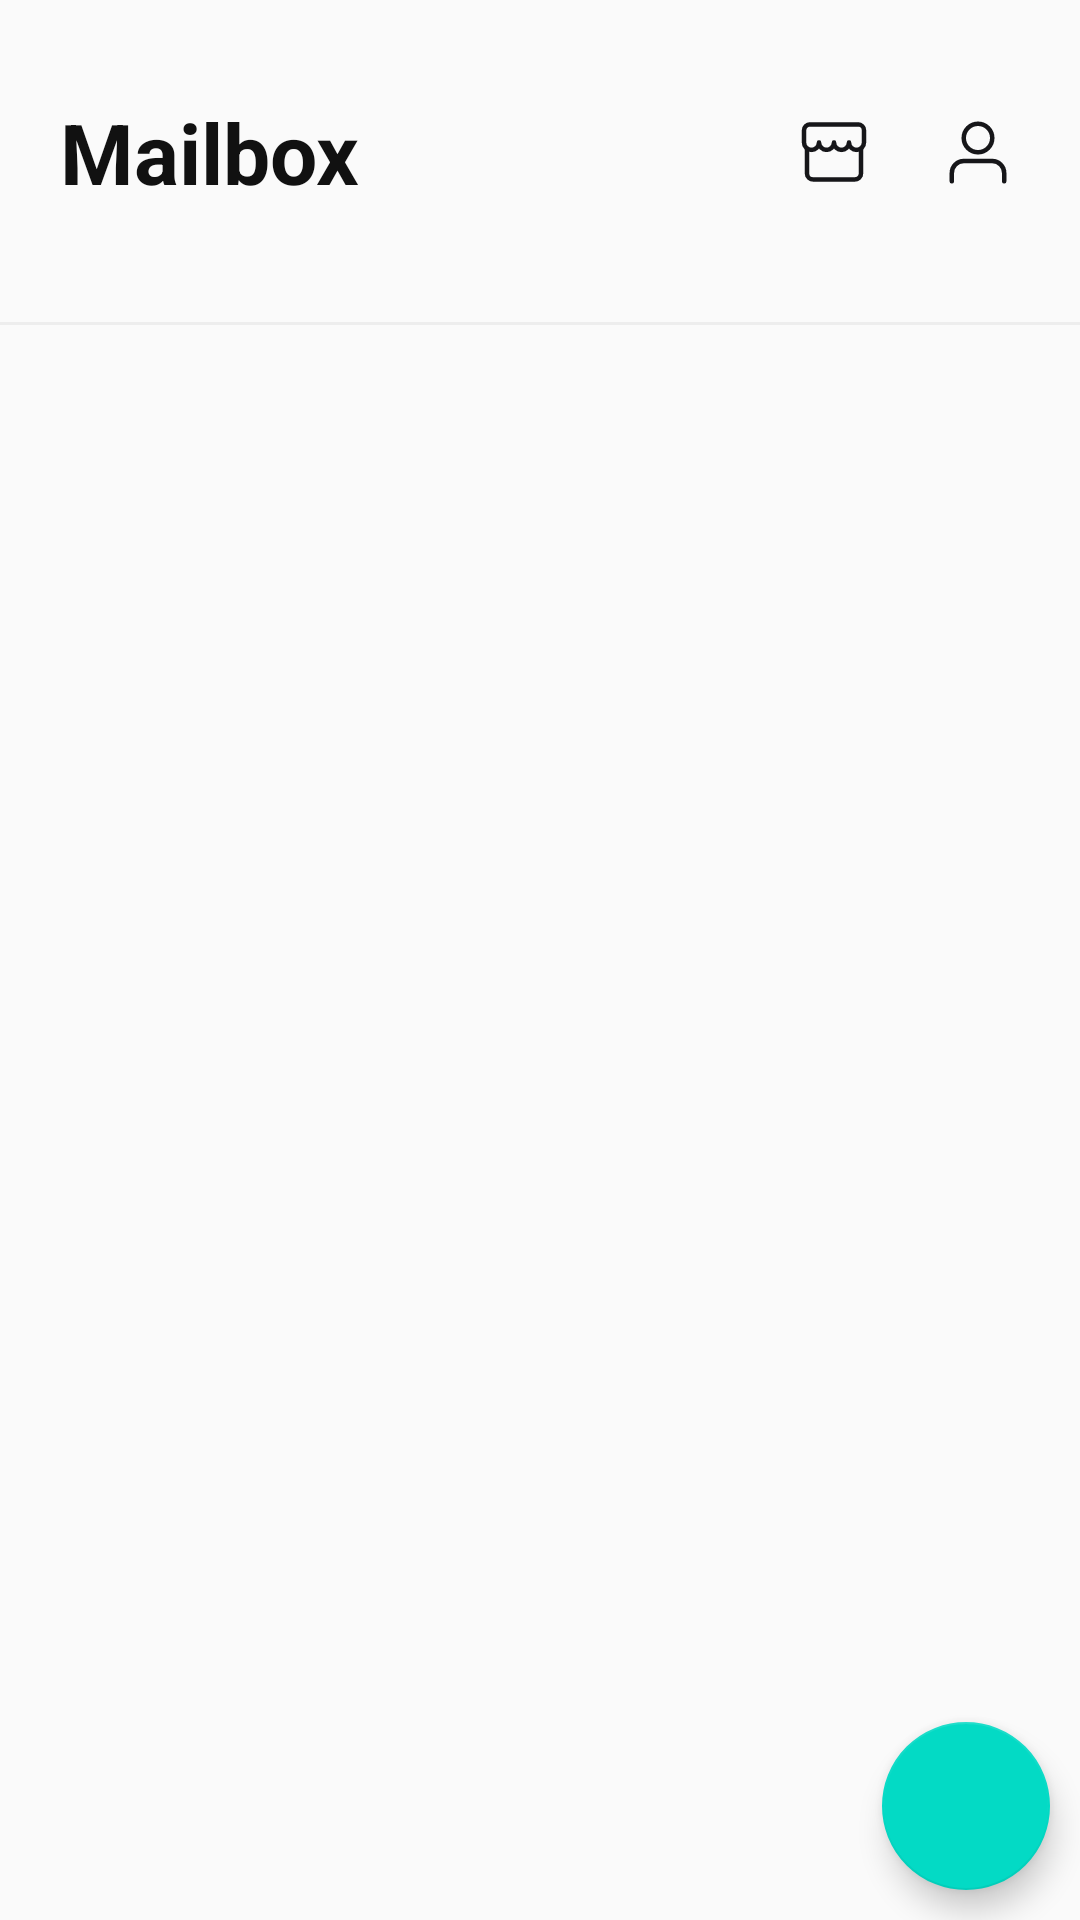

Where to tap for icons on this 1080 × 1920 app screen, as (x=x, y=y):
shop: (x=834, y=152)
